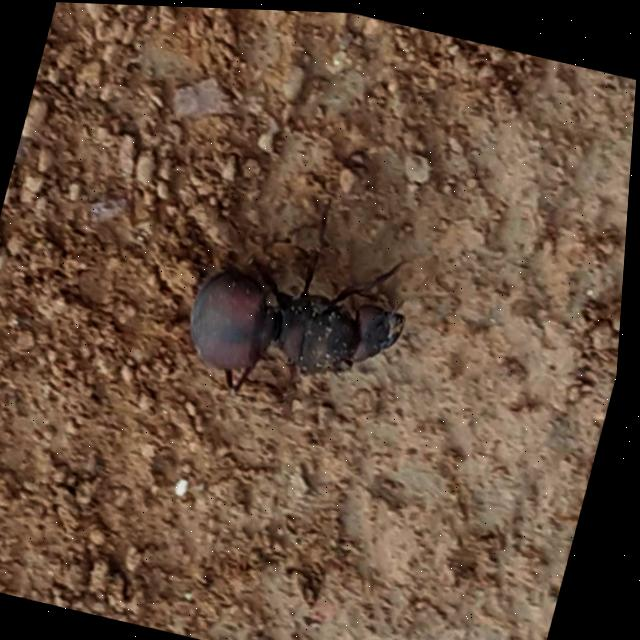Alive-Female-Dealate: (177, 170, 479, 434)
